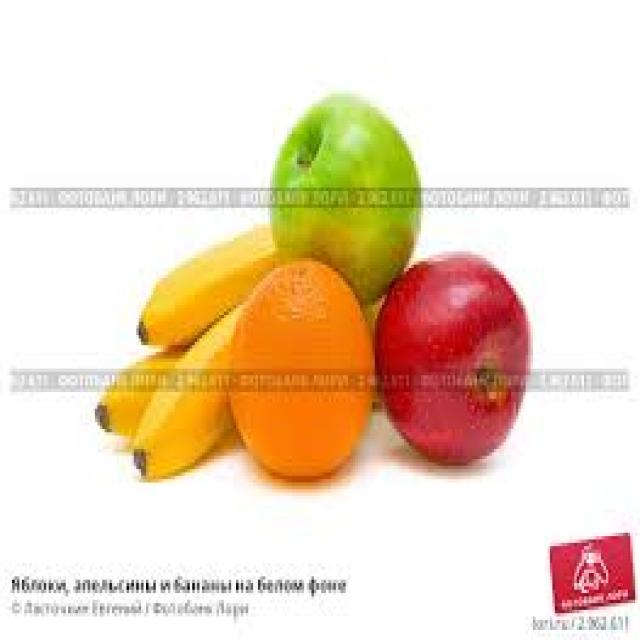non_orange: (236, 96, 442, 335), (372, 231, 544, 473)
